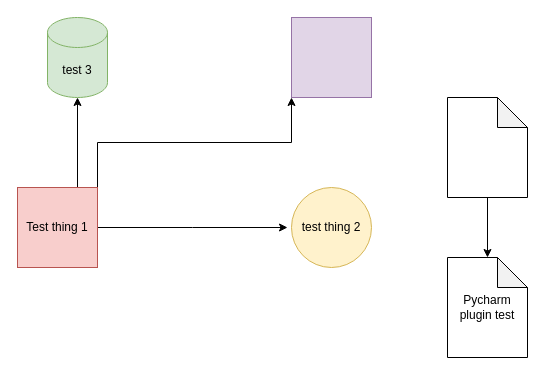
Some shapes in this 545 by 375 pixel diagram are drawn without their labels. Each missing label, with the box of its shape:
GitHub.dev test: (446, 96, 528, 198)
test thing 4: (290, 16, 372, 98)
